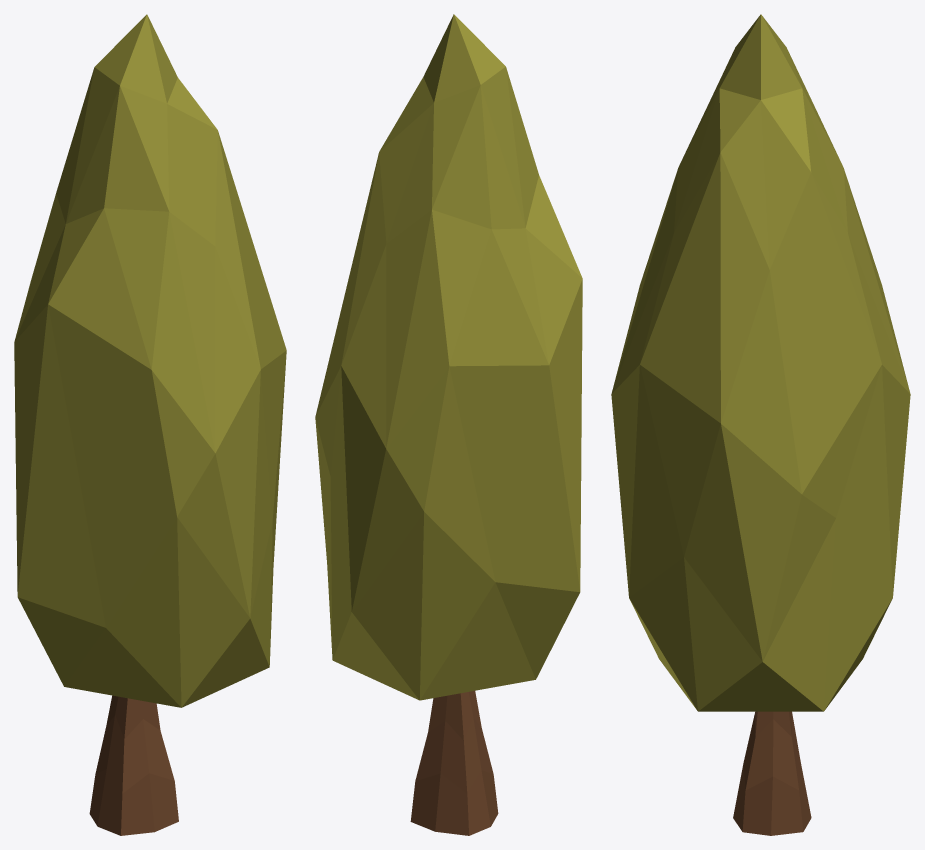
The model's file is Tree_46_Yellow.fbx.
3 views of the same model, side by side, from view 1: azimuth 30°, elevation 25°; view 2: azimuth 150°, elevation 25°; view 3: azimuth 270°, elevation 25° (orthographic).
Visible parts, largest first — view 1: Tree_46_Yellow_Part_1, Tree_46_Yellow_Part_2; view 2: Tree_46_Yellow_Part_1, Tree_46_Yellow_Part_2; view 3: Tree_46_Yellow_Part_1, Tree_46_Yellow_Part_2.
Boxes of the visible parts, x1,y1,x2,y2 form: Tree_46_Yellow_Part_1: (14, 14, 286, 707); Tree_46_Yellow_Part_2: (89, 695, 178, 835); Tree_46_Yellow_Part_1: (315, 14, 582, 700); Tree_46_Yellow_Part_2: (410, 690, 498, 835); Tree_46_Yellow_Part_1: (611, 14, 910, 711); Tree_46_Yellow_Part_2: (733, 711, 811, 835).
Size of the model in its own units: 265 by 797 by 268.
